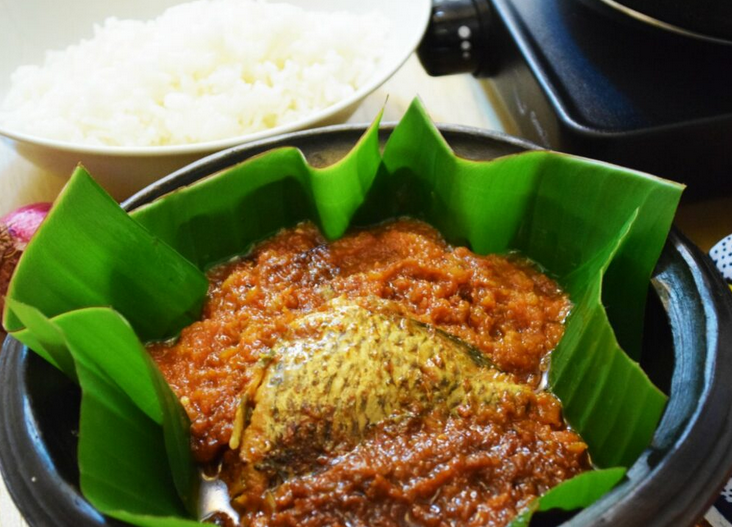poisson: (324, 338, 468, 399)
riz: (150, 29, 312, 88)
sauce tomate: (323, 243, 531, 272)
